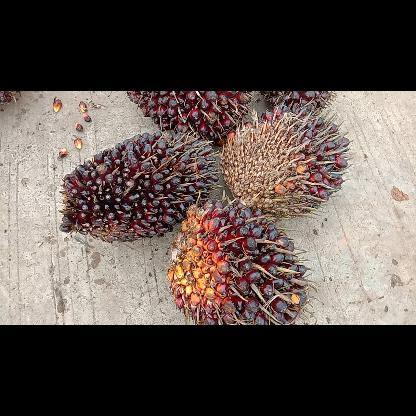TBS mentah: (168, 200, 316, 324), (60, 132, 220, 242), (222, 111, 350, 219), (126, 90, 254, 146), (260, 90, 336, 116)
